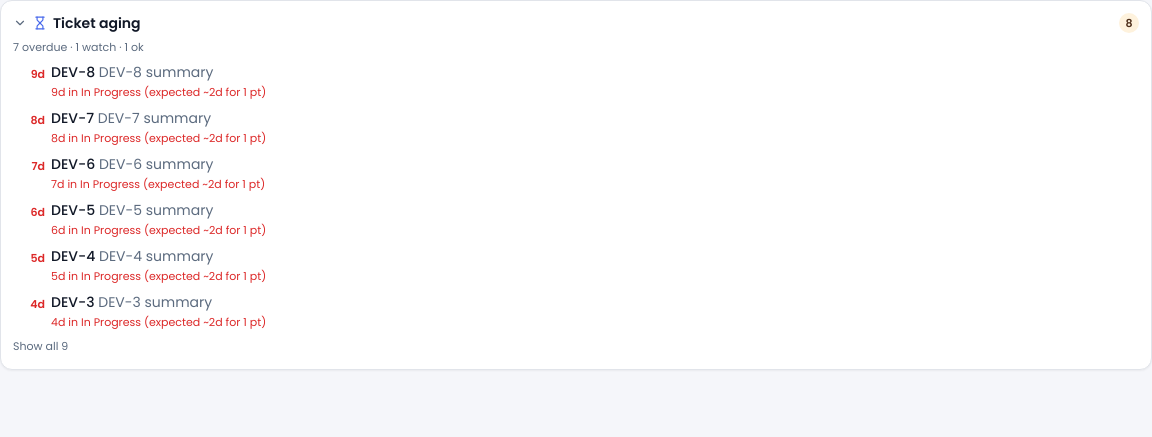
Test case: AgingCard (v1.58) › collapses back to 6 when 'Show less' is clicked again
Click the button "Show all 9". click: click(41, 346)
box: [13,338,68,354]
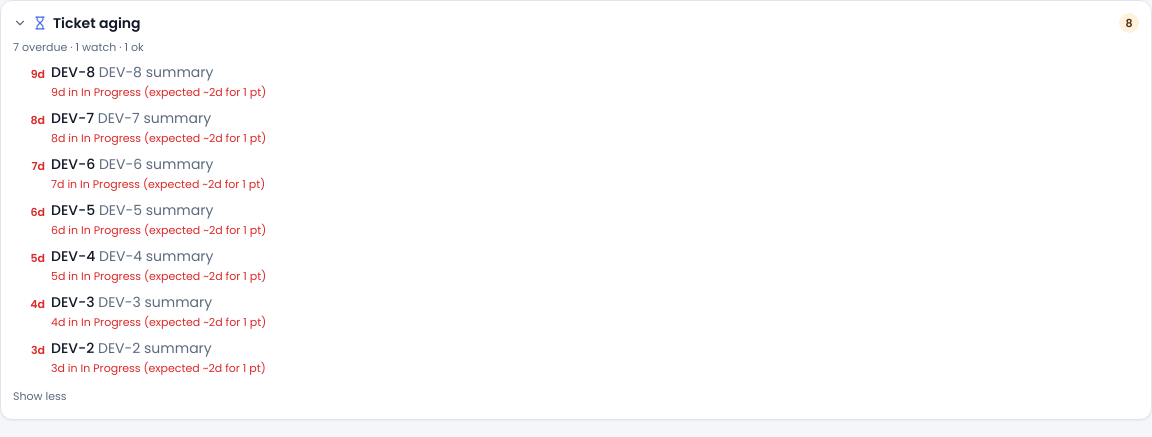
Click the button "Show less". click: click(40, 396)
box: [13,388,66,404]
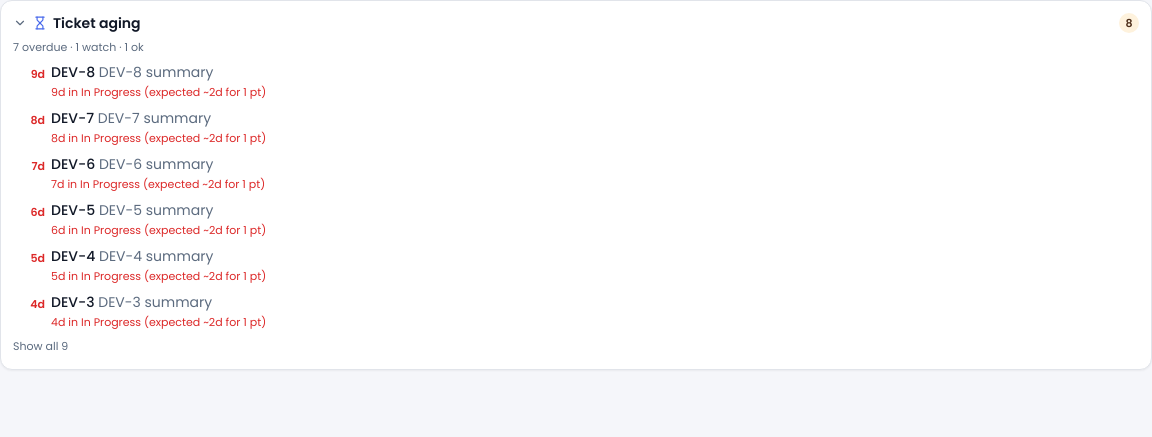
Check: the number of list items is 6, box [31,62,266,100]; [30,108,266,146]; [32,154,265,192]; [30,200,266,238]; [30,246,266,284]; [30,292,266,330]
Check: the button "Show all 9" is collapsed, box [13,338,68,354]
